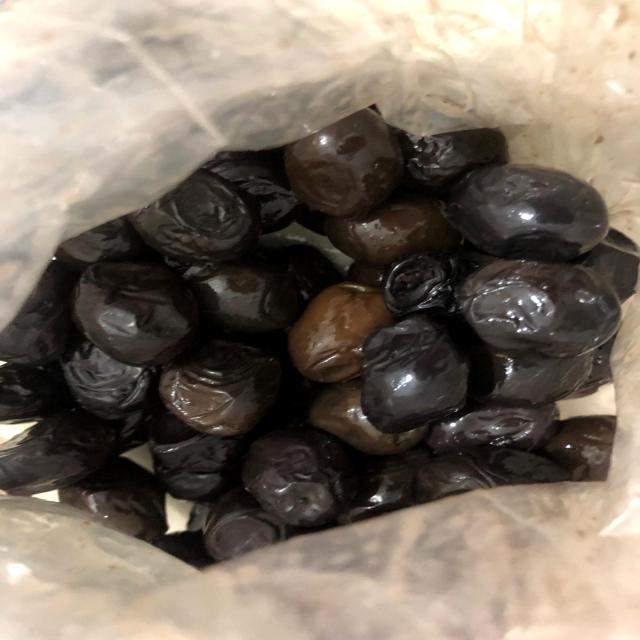olive: (32, 95, 617, 532)
